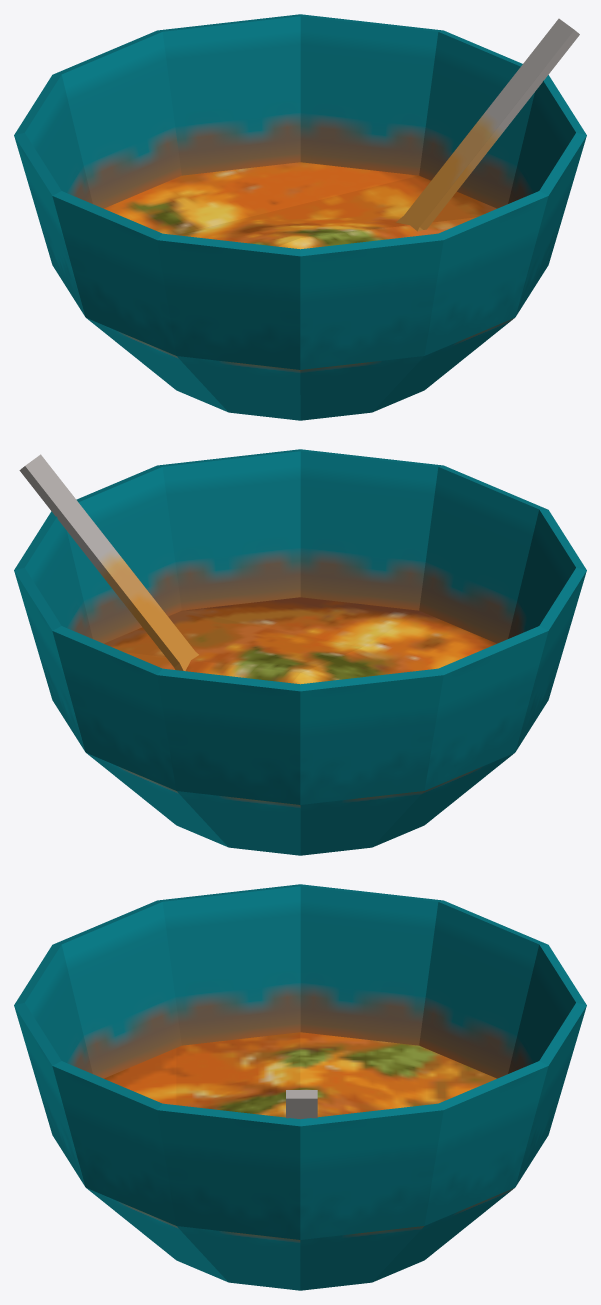
The model's file is bowl_soup.glb.
3 views of the same model, one above another, from view 1: azimuth 30°, elevation 25°; view 2: azimuth 150°, elevation 25°; view 3: azimuth 270°, elevation 25° (orthographic).
Parts seen in each view (by area): view 1: Sphere; view 2: Sphere; view 3: Sphere.
Boxes of the visible parts, x1,y1,x2,y2 form: Sphere: (14,14,586,420); Sphere: (14,449,586,855); Sphere: (14,884,586,1290).
Bounding box in the file's own units: 2.1 × 1.04 × 2.
1 material, 1 textured.
